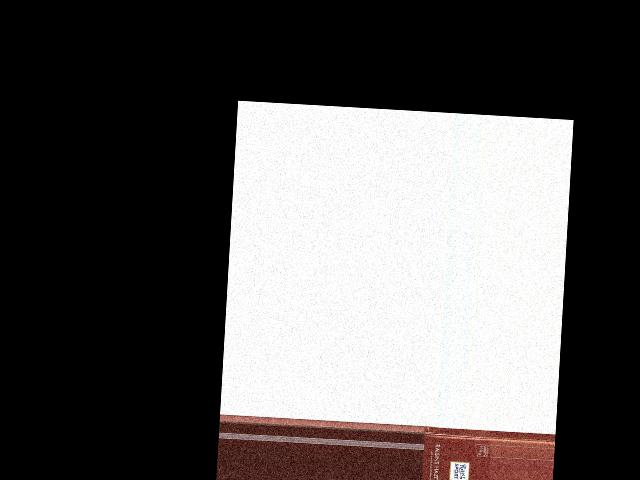chocolate: (418, 426, 491, 480)
